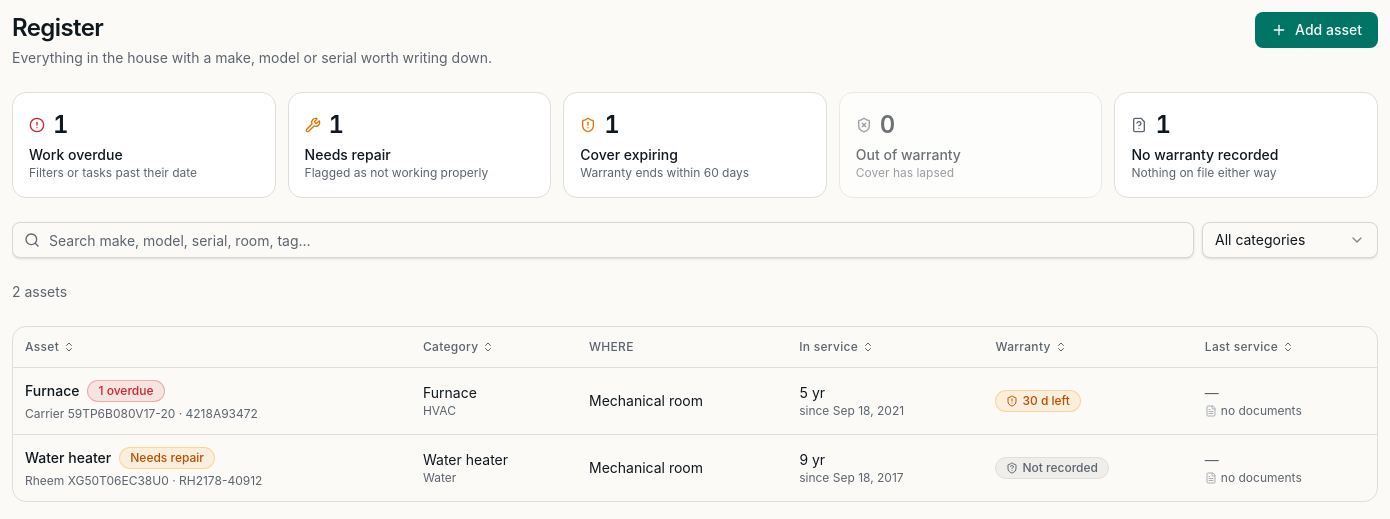
Test: AssetsPage › keeps tile counts describing the whole register while a filter is applied
The image size is (1390, 519).
expect the link "Furnace" is shown: met, box left=25, top=380, right=80, bottom=400
expect the 3rd text "1" is shown: met, box left=604, top=109, right=620, bottom=141
Click the button "1 No warranty recorded Nothing on file either way" at coordinates (1246, 145), box left=1114, top=92, right=1378, bottom=198
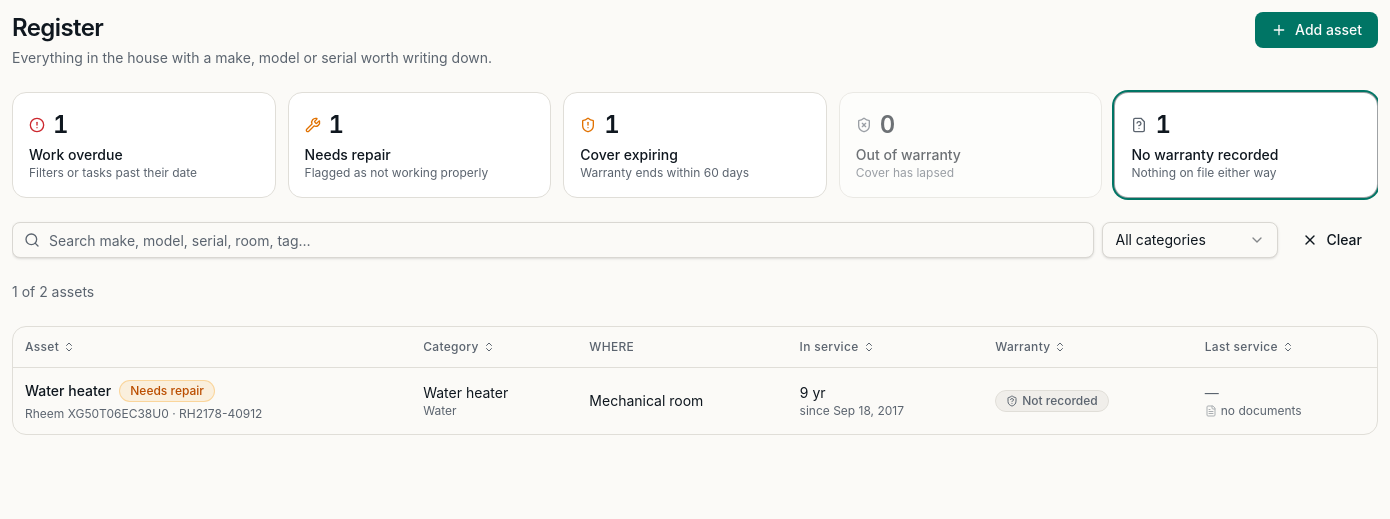
expect the 3rd text "1" is shown: met, box left=604, top=109, right=620, bottom=141
expect the text "1 of 2 assets" is shown: met, box left=12, top=283, right=94, bottom=300
